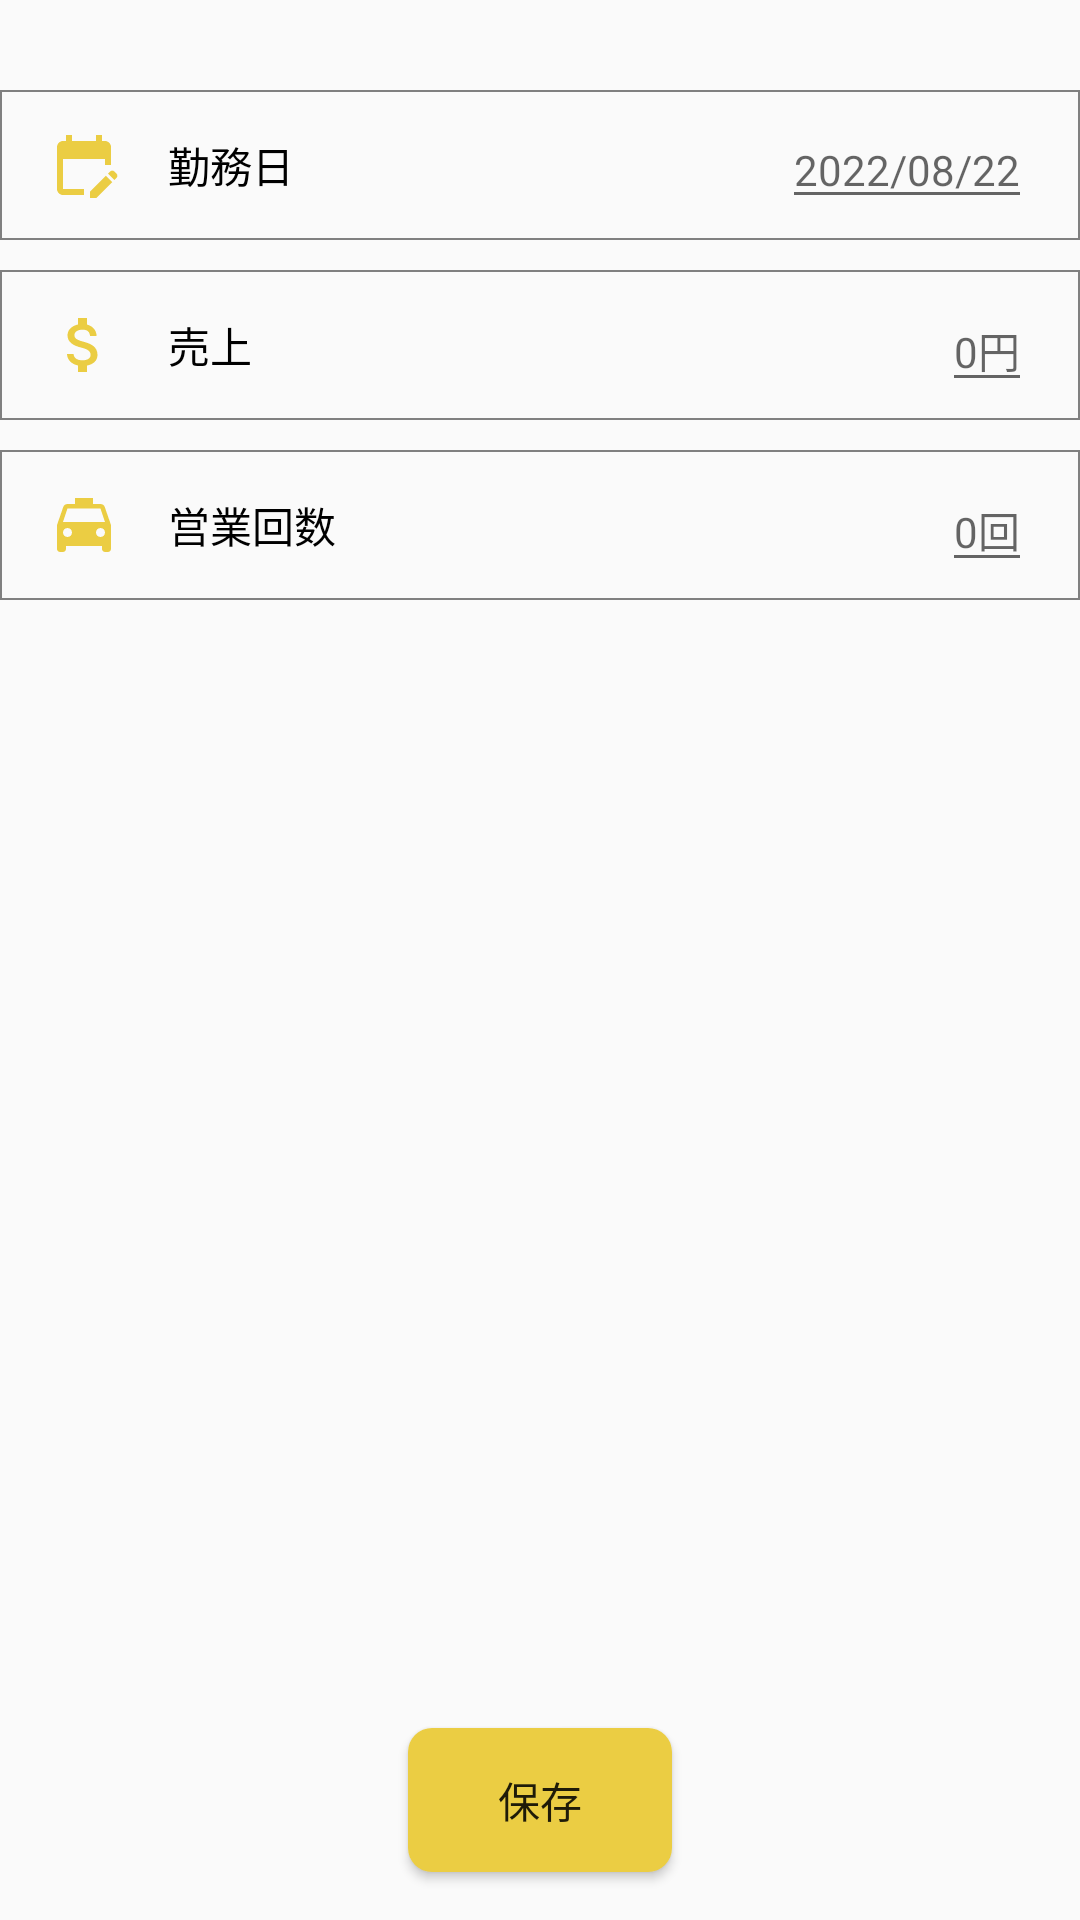

Icon click points for this 1080px×1920px phone screenshot, format point (x, y):
attach money: point (82, 345)
edit calendar: point (87, 166)
local taxi: point (84, 525)
